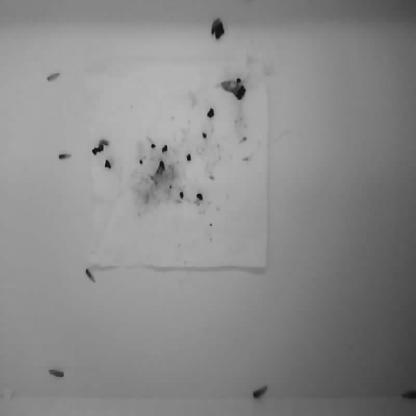PtecticusTenebrifer: (84, 268, 97, 284), (211, 14, 221, 34), (221, 81, 236, 94), (49, 368, 65, 380), (46, 71, 61, 83), (252, 387, 268, 398), (59, 151, 72, 160)
